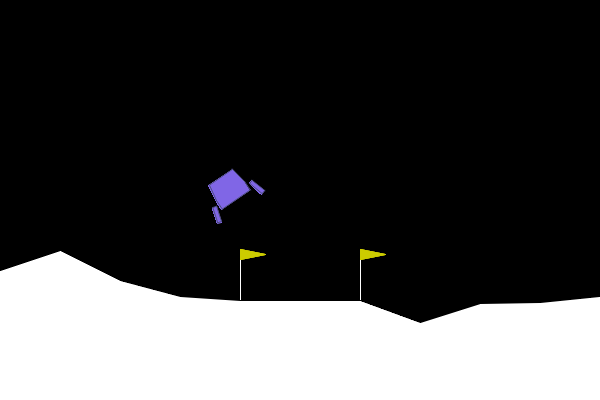lander: (195, 159, 267, 226)
